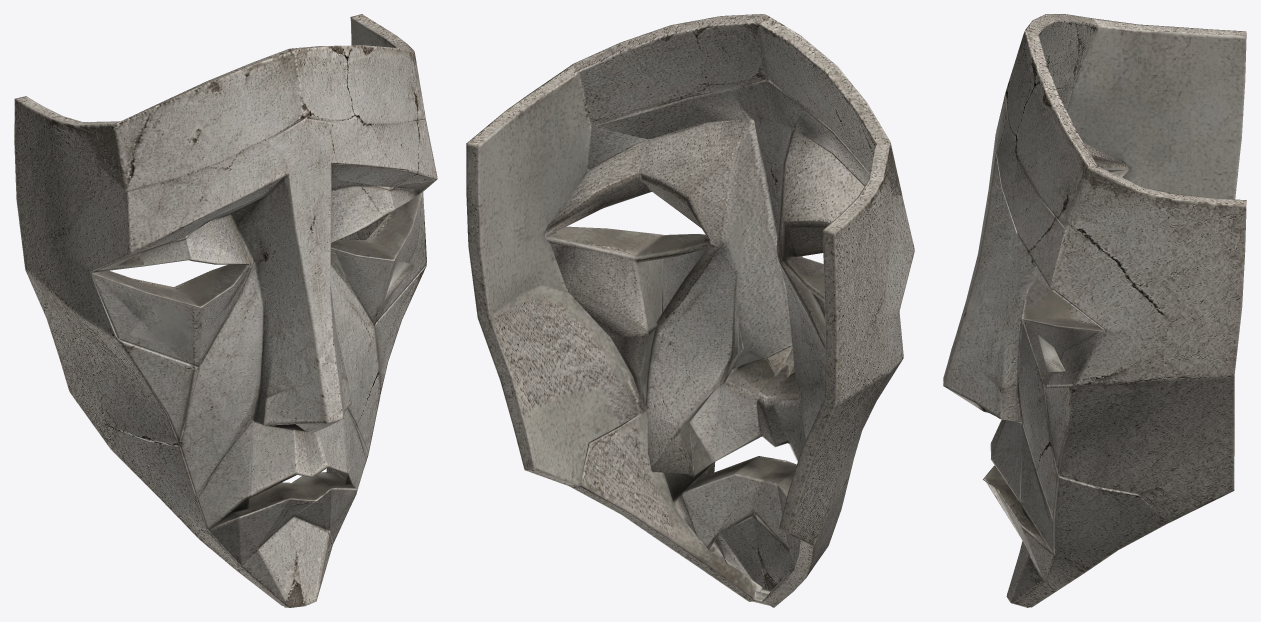
The model's file is rostro_2_escalera.glb.
The picture shows the model from 3 angles, left to right: view 1: azimuth 30°, elevation 25°; view 2: azimuth 150°, elevation 25°; view 3: azimuth 270°, elevation 25°; orthographic projection. The views are drawn at different scales.
Parts seen in each view (by area): view 1: tripo_node_1f8705ab-b477-4274-99fd-19cc38c453d2; view 2: tripo_node_1f8705ab-b477-4274-99fd-19cc38c453d2; view 3: tripo_node_1f8705ab-b477-4274-99fd-19cc38c453d2.
Part boxes in pixels (<box>): tripo_node_1f8705ab-b477-4274-99fd-19cc38c453d2: <box>14,14,437,607</box>; tripo_node_1f8705ab-b477-4274-99fd-19cc38c453d2: <box>466,14,914,607</box>; tripo_node_1f8705ab-b477-4274-99fd-19cc38c453d2: <box>943,14,1246,607</box>.
Bounding box in the file's own units: 0.6577 × 0.9995 × 0.481.
1 material, 1 textured.
